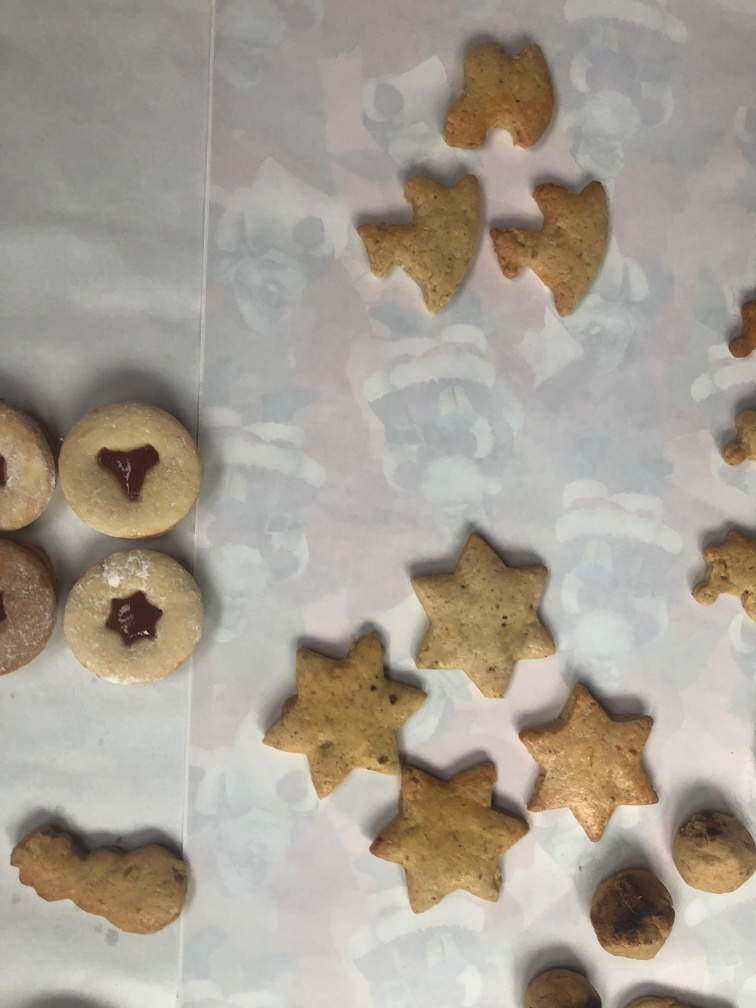christmas shortbread with jam: (63, 543, 213, 685), (54, 401, 203, 540), (3, 536, 59, 682), (3, 396, 60, 535)
lamb: (355, 159, 491, 313), (489, 168, 620, 316), (433, 27, 559, 155)
santa claus: (692, 519, 756, 610)
snowball: (588, 854, 683, 966), (668, 793, 755, 899), (515, 956, 602, 1005)
snowman: (9, 808, 198, 944)
star: (365, 743, 526, 929), (405, 521, 563, 701), (264, 622, 424, 796), (514, 673, 664, 844)
